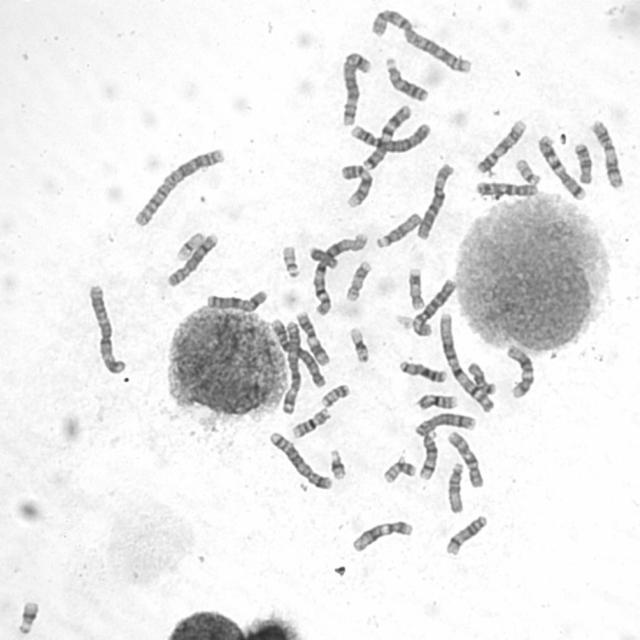A1: (436, 308, 498, 414), (310, 230, 370, 317)
A2: (130, 144, 227, 229), (368, 5, 473, 75)
A3: (85, 282, 127, 375), (278, 318, 304, 416)
B4: (268, 316, 328, 390), (347, 119, 432, 154)
B5: (266, 428, 334, 491), (337, 48, 373, 128)
C10: (444, 428, 486, 490), (472, 178, 539, 200)
C11: (588, 116, 624, 190), (293, 308, 331, 367)
C12: (348, 517, 414, 554), (503, 342, 536, 399)
C6: (414, 160, 456, 241), (409, 276, 457, 338)
C7: (535, 132, 588, 202), (360, 102, 413, 171)
C8: (163, 230, 220, 288), (410, 410, 478, 438)
C9: (474, 116, 528, 175), (337, 162, 374, 208)
D13: (382, 54, 430, 103), (396, 357, 448, 384)
D14: (442, 512, 488, 557), (416, 428, 439, 482)
D15: (372, 209, 423, 250), (444, 459, 466, 515)
E16: (288, 405, 332, 440), (415, 391, 459, 412)
E17: (343, 257, 373, 303), (405, 265, 426, 312)
E18: (465, 359, 497, 395), (571, 140, 594, 186)
F19: (172, 228, 206, 262), (346, 324, 371, 364)
F20: (380, 457, 418, 485), (318, 381, 351, 409)
G21: (13, 598, 40, 636), (327, 446, 347, 481)
G22: (279, 242, 302, 280), (513, 156, 542, 186)
X: (203, 287, 269, 312)
Y: (307, 243, 339, 270)
